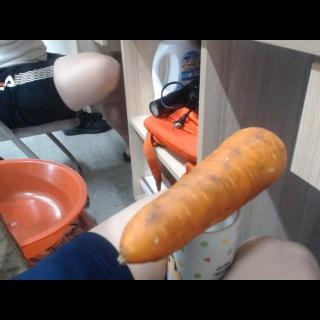carrot: (118, 126, 289, 264)
